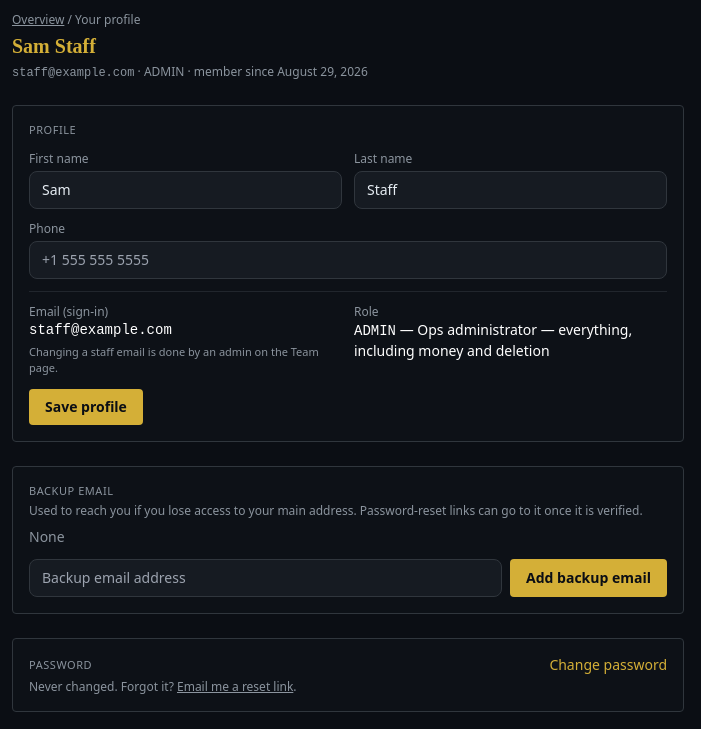
Test: ops profile — backup email card › none: explains the purpose, offers the input and "Add backup email", and the add calls the action with the address
Check: the element with test id "backup-email-section" shows "Used to reach you if you lose access to your main address. Password-reset links can go to it once it is verified.", box top-left (29, 502), bottom-right (643, 519)
Check: the element with test id "backup-email-state" reads "None", box top-left (29, 527), bottom-right (65, 546)
Type "Backup@example.com" into the field with test id "backup-email-input" at {"x": 266, "y": 578}, box top-left (29, 559), bottom-right (502, 597)
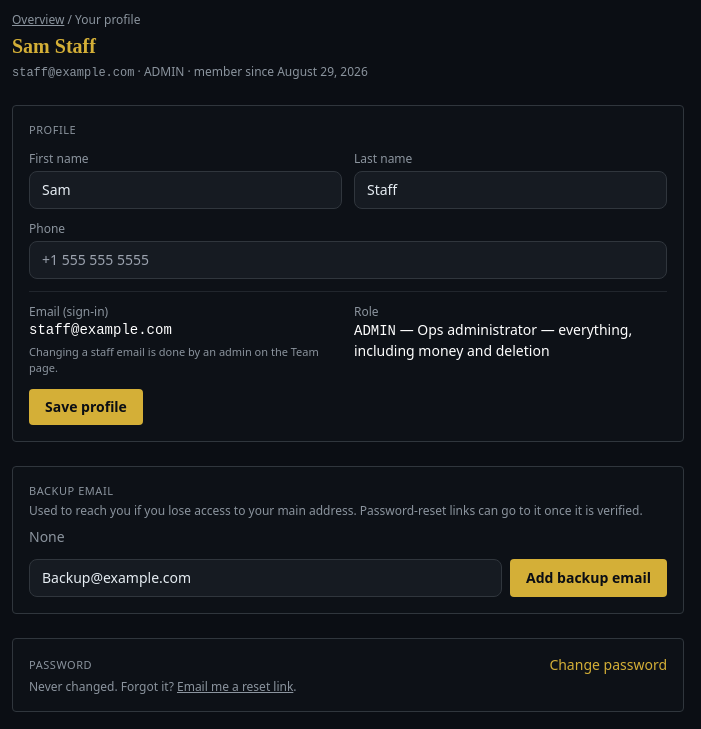
Click the button with test id "backup-email-add" at {"x": 589, "y": 578}, box top-left (510, 559), bottom-right (667, 597)
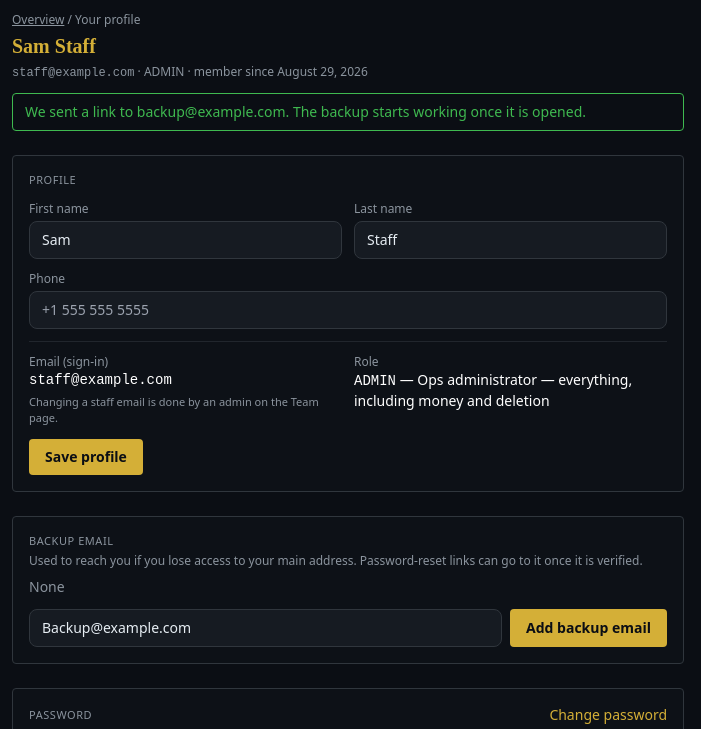
Check: the message with test id "profile-notice" shows "We sent a link to backup@example.com", box top-left (25, 102), bottom-right (586, 121)
